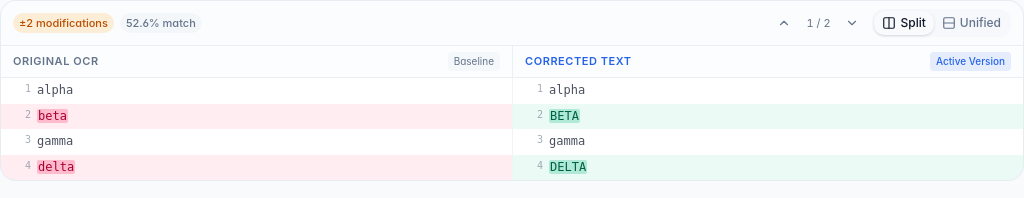
RevisionDiff › navigates between change blocks and updates the counter
This screenshot has width=1024, height=198.
expect the text "1 / 2" is shown: met, box [806, 16, 831, 30]
Click the button named "Next change".
click(852, 23)  # box [840, 11, 864, 35]
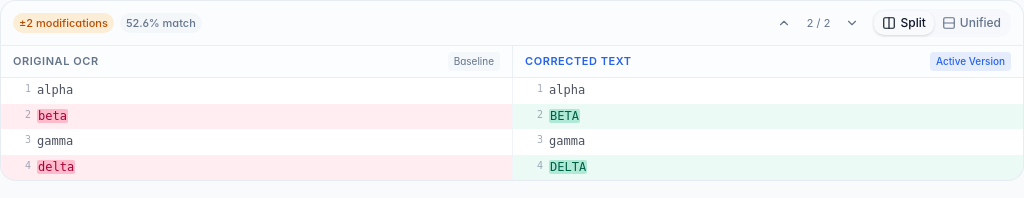
expect the text "2 / 2" is shown: met, box [806, 16, 831, 30]
